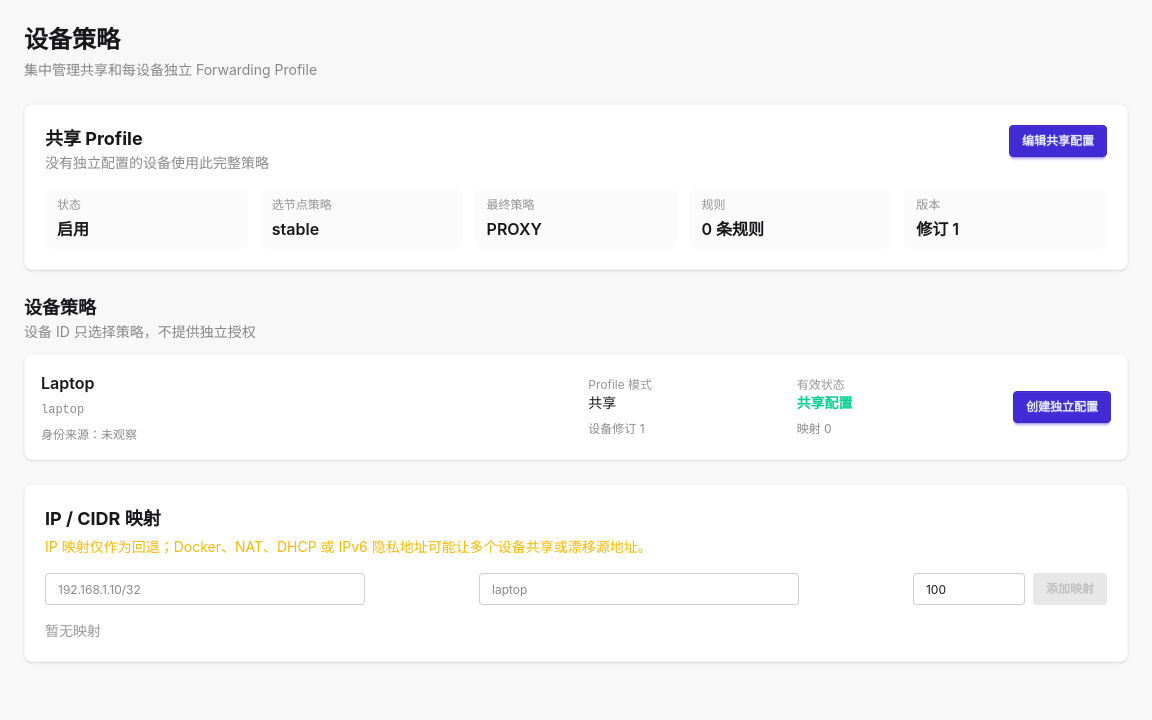
Test: creates blank Profile with revision zero and explains copy-shared is one-time
This screenshot has width=1152, height=720.
Click the button "创建独立配置".
click(1062, 407)  # box [1013,391,1111,423]
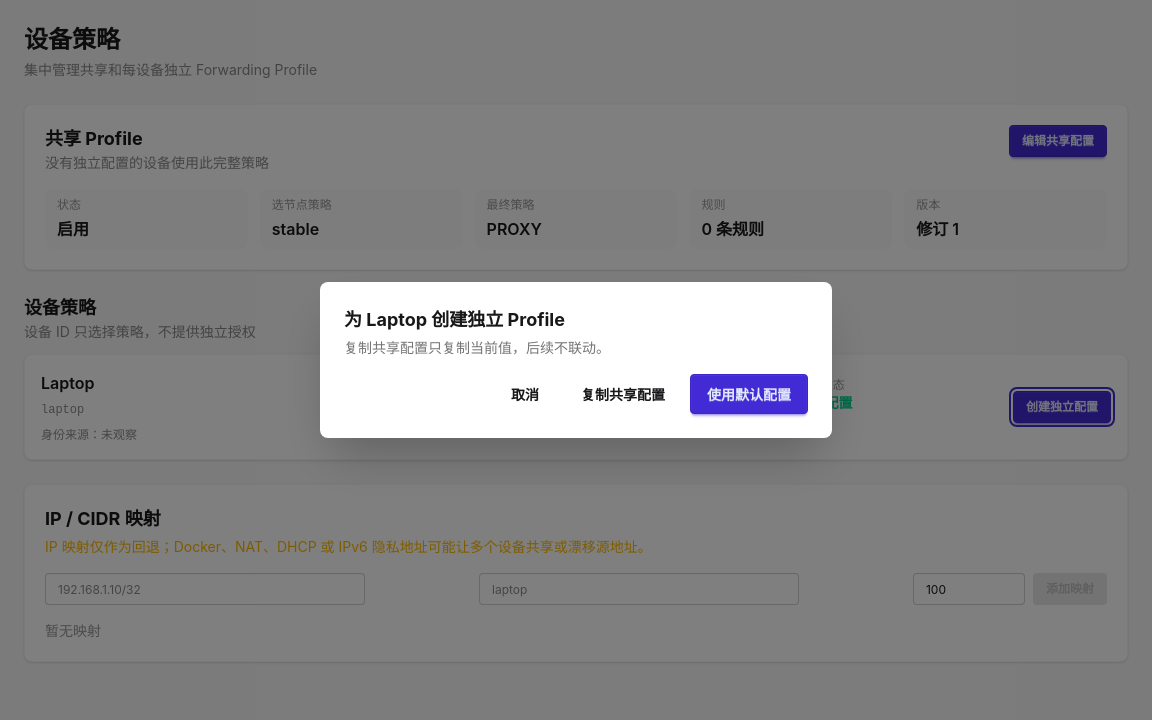
Click the button "使用默认配置".
click(749, 394)  # box [690,374,808,414]
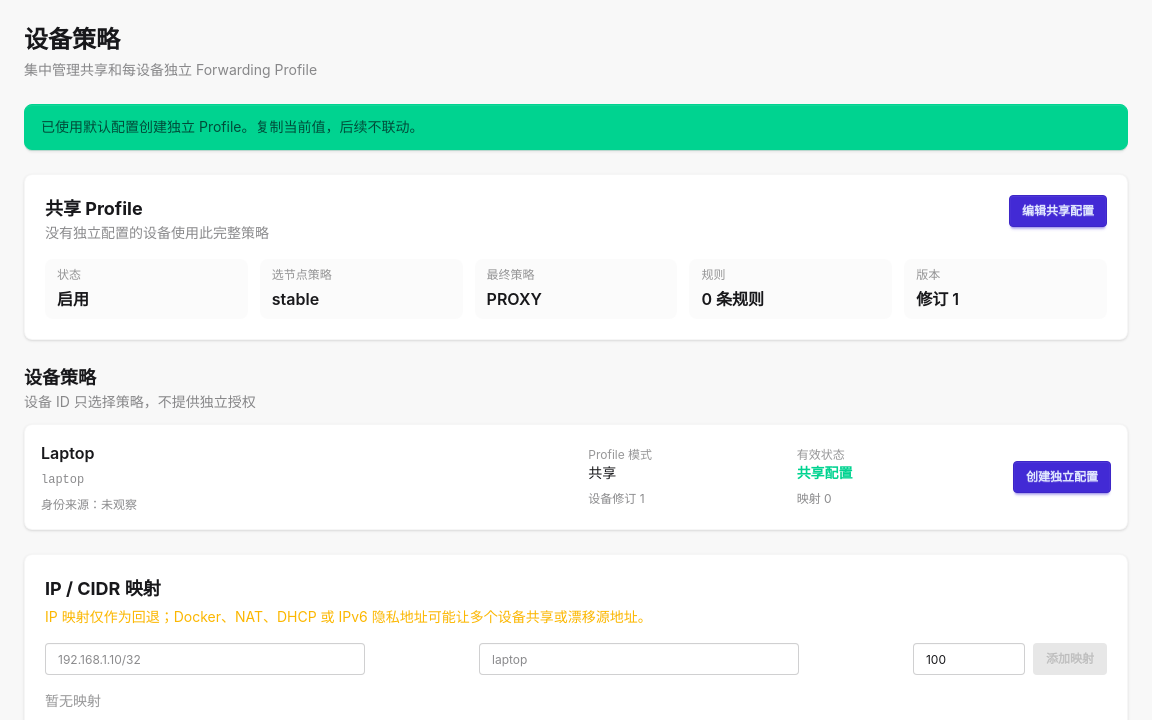
Expected: the text "已使用默认配置创建独立 Profile。复制当前值，后续不联动。" is shown, [24,104,1128,150]
